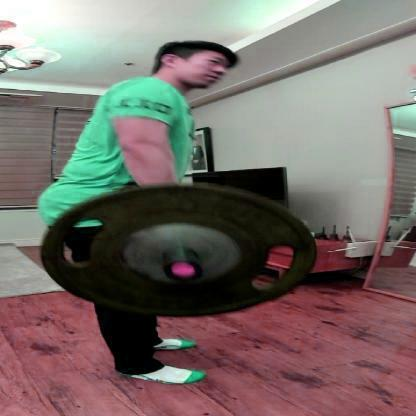Barbell: (157, 257, 205, 284)
